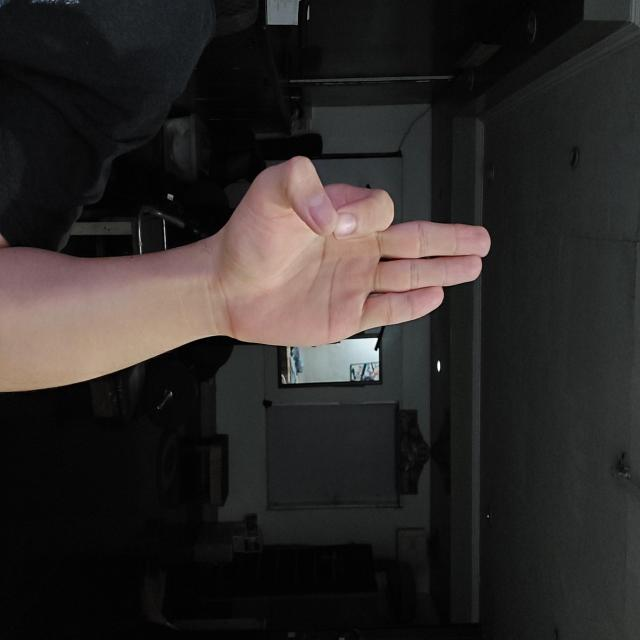F: (153, 148, 348, 424)
